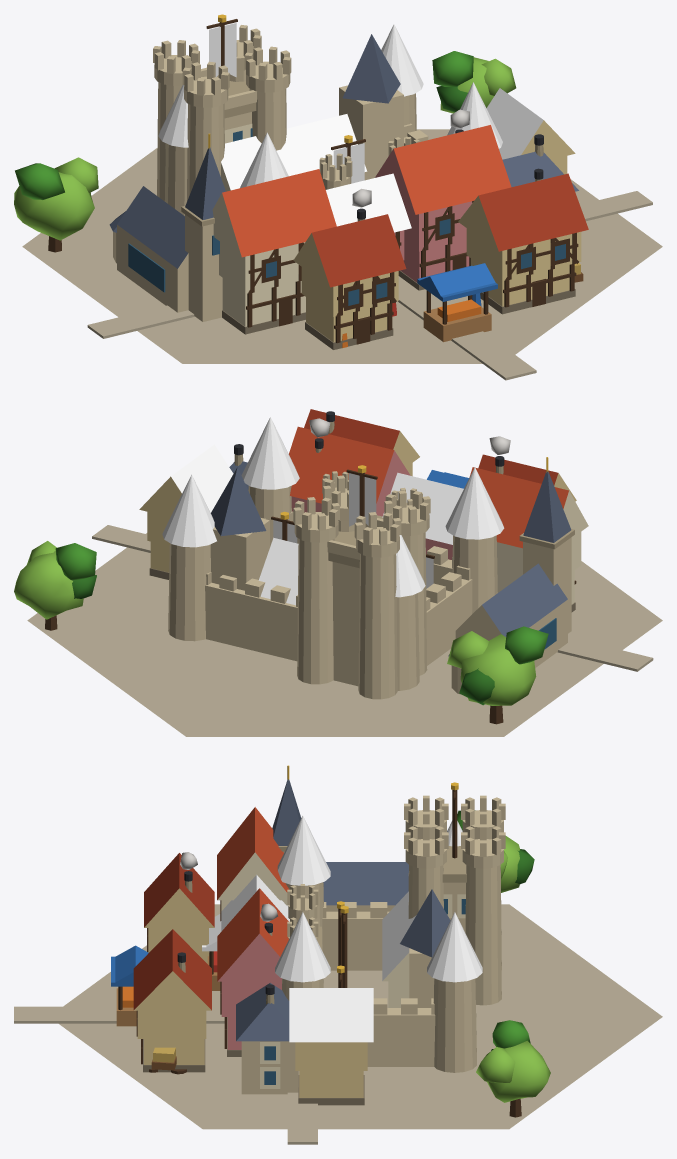
Rendered from capital_1_3.fbx.
The picture shows the model from 3 angles, top to bottom: view 1: azimuth 30°, elevation 25°; view 2: azimuth 150°, elevation 25°; view 3: azimuth 270°, elevation 25°; orthographic projection. The views are drawn at different scales.
Parts seen in each view (by area): view 1: capital_1_3; view 2: capital_1_3; view 3: capital_1_3.
Boxes of the visible parts, x1,y1,x2,y2 form: capital_1_3: [14, 14, 662, 380]; capital_1_3: [14, 409, 662, 736]; capital_1_3: [14, 765, 662, 1144].
Size of the model in its own units: 208 by 75.65 by 222.
